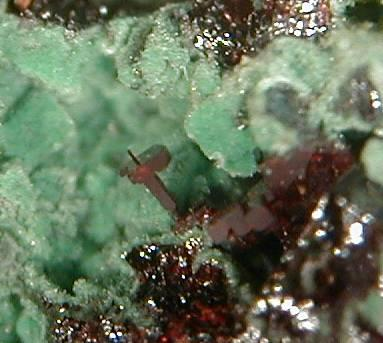cuprite: (49, 138, 383, 343), (189, 0, 332, 67), (128, 145, 176, 212)
